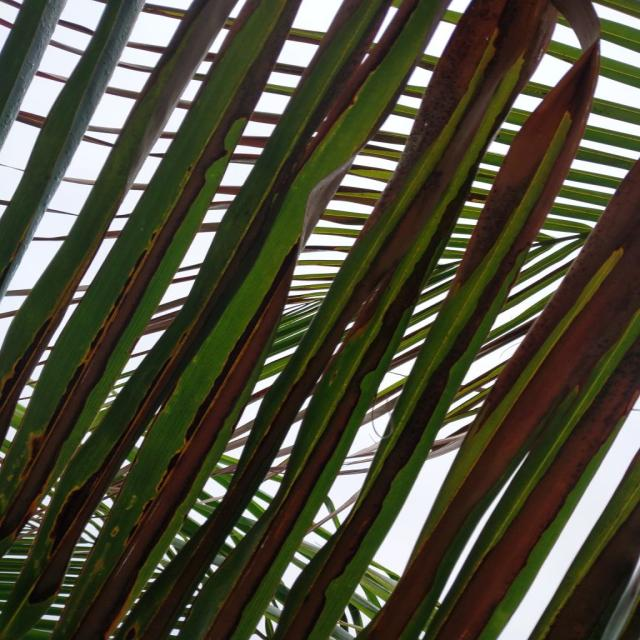gray leaf spot: (3, 6, 640, 634)
